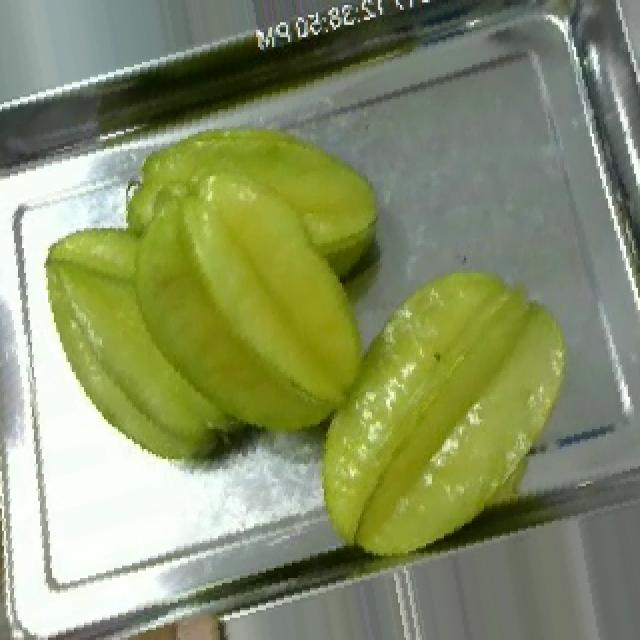fruit: (100, 80, 418, 472), (290, 233, 608, 576)
